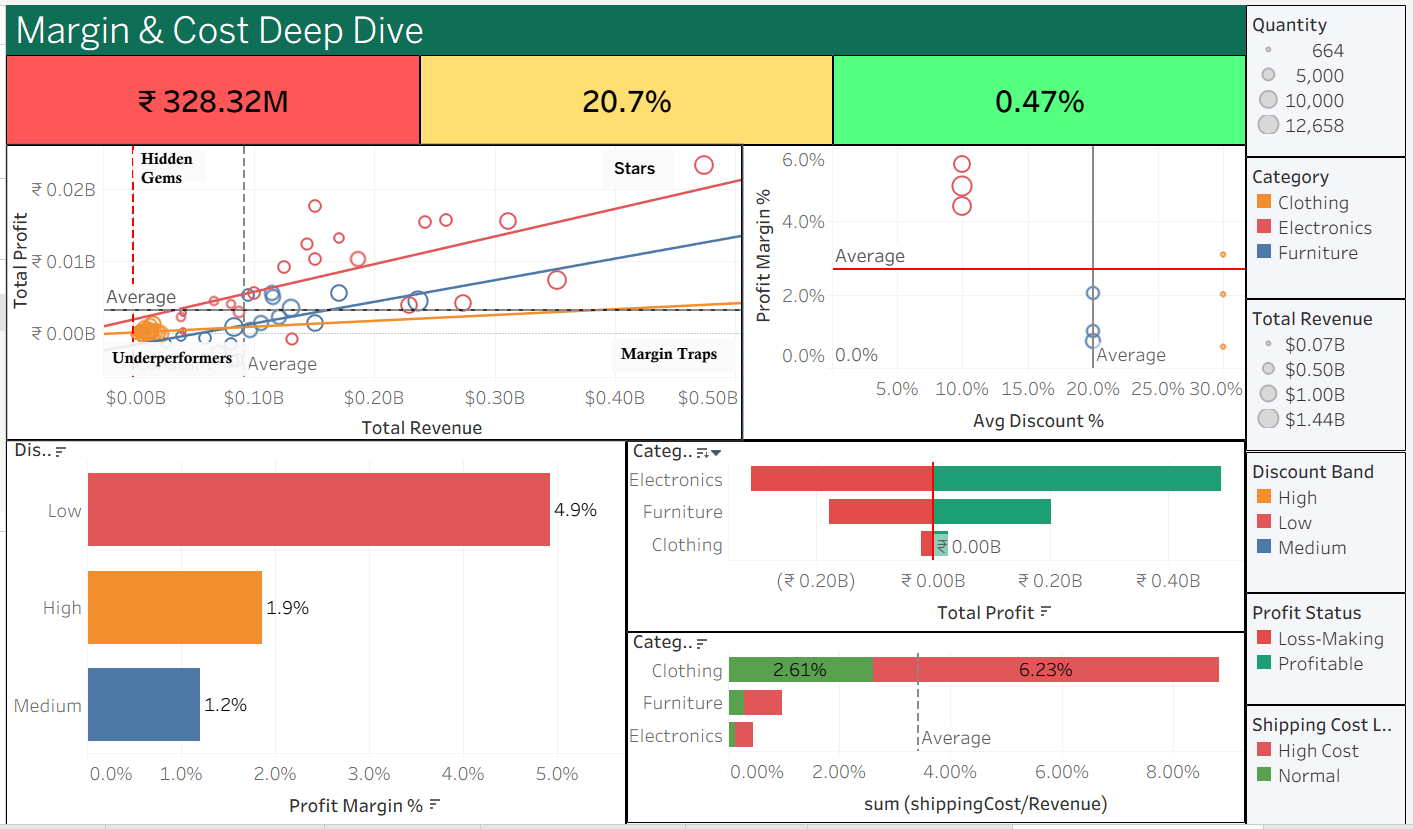

What the dashboard file says about the page in this screenshot:
{"tool":"tableau","page":{"name":"Margin & Cost Deep Dive","canvas":[1400,900],"ordinal":1},"visuals":[{"type":"text","box":[0,0,1240,50.1]},{"type":"legend","title":"Revenue vs Profit Scatter","param":"[federated.1js2xx1114pdqi10e6kd708olrzj].[sum:quantity:qk]","box":[1240,0,160,152.5]},{"type":"worksheet","title":"Unprofitable Revenue","mark":"Automatic","box":[0,50,414,90]},{"type":"worksheet","title":"Avg Discount %","mark":"Automatic","box":[414,50,413,90]},{"type":"worksheet","title":"KPI 8: Shipping Cost %","mark":"Automatic","box":[827,50,413,90]},{"type":"worksheet","title":"Revenue vs Profit Scatter","mark":"Automatic","rows":["Calculation_0588019267817474"],"cols":["Calculation_0588019267665921"],"box":[0,140.1,736,294.9]},{"type":"worksheet","title":"Discount vs Profit","mark":"Automatic","rows":["Calculation_0588019267919875"],"cols":["Calculation_0588019268210693"],"box":[736,140.1,504,294.9]},{"type":"legend","title":"Revenue vs Profit Scatter","param":"[federated.1js2xx1114pdqi10e6kd708olrzj].[none:category:nk]","box":[1240,152.5,160,142]},{"type":"legend","title":"Discount vs Profit","param":"[federated.1js2xx1114pdqi10e6kd708olrzj].[usr:Calculation_0588019267665921:qk]","box":[1240,294.5,160,152.5]},{"type":"worksheet","title":"Discount Band Performance","mark":"Automatic","rows":["discount_band"],"cols":["Calculation_0588019267919875"],"box":[0,435,620,385]},{"type":"worksheet","title":"Profit by Category","mark":"Automatic","rows":["category"],"cols":["Calculation_0588019267817474"],"box":[621,436,618,191.5]},{"type":"legend","title":"Discount Band Performance","param":"[federated.1js2xx1114pdqi10e6kd708olrzj].[none:discount_band:nk]","box":[1240,447,160,141]},{"type":"legend","title":"Profit by Category","param":"[federated.1js2xx1114pdqi10e6kd708olrzj].[none:Calculation_0588019269009417:nk]","box":[1240,588,160,112]},{"type":"worksheet","title":"Shipping Cost %","mark":"Automatic","rows":["category"],"cols":["Calculation_0500333578706944"],"box":[621,627.5,618,191.5]},{"type":"legend","title":"Shipping Cost %","param":"[federated.1js2xx1114pdqi10e6kd708olrzj].[none:Calculation_0500333579931649:nk]","box":[1240,700,160,120]},{"type":"text","box":[0,820,1400,80]}]}

Visuals, with their boxes on the page's 1400x900 design canvas (x1, y1, x2, y2). These are canvas units, not pixel positions in the 1413x829 screenshot, which may show the page scaled, cropped or inside an application window:
text: 0,0,1240,50
"Revenue vs Profit Scatter" legend: 1240,0,1400,152
"Unprofitable Revenue" worksheet: 0,50,414,140
"Avg Discount %" worksheet: 414,50,827,140
"KPI 8: Shipping Cost %" worksheet: 827,50,1240,140
"Revenue vs Profit Scatter" worksheet: 0,140,736,435
"Discount vs Profit" worksheet: 736,140,1240,435
"Revenue vs Profit Scatter" legend: 1240,152,1400,294
"Discount vs Profit" legend: 1240,294,1400,447
"Discount Band Performance" worksheet: 0,435,620,820
"Profit by Category" worksheet: 621,436,1239,628
"Discount Band Performance" legend: 1240,447,1400,588
"Profit by Category" legend: 1240,588,1400,700
"Shipping Cost %" worksheet: 621,628,1239,819
"Shipping Cost %" legend: 1240,700,1400,820
text: 0,820,1400,900
